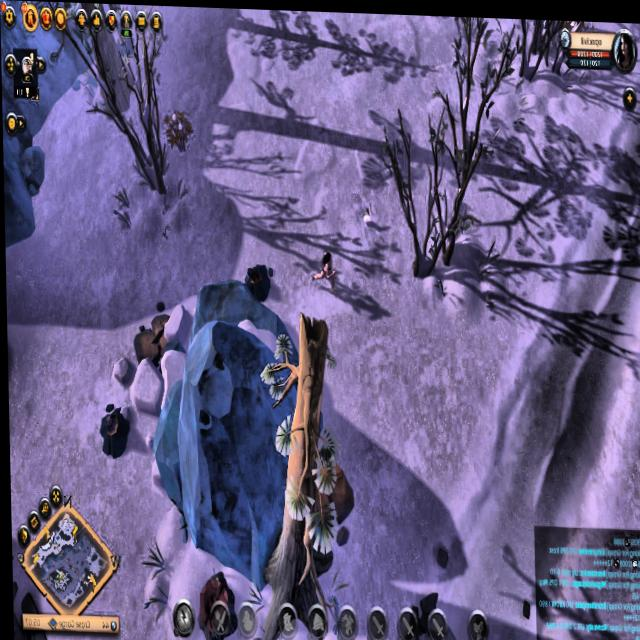copper_ore: (91, 397, 132, 469), (238, 244, 273, 314)
cotton: (163, 102, 197, 154)
limestone: (310, 443, 354, 523)
